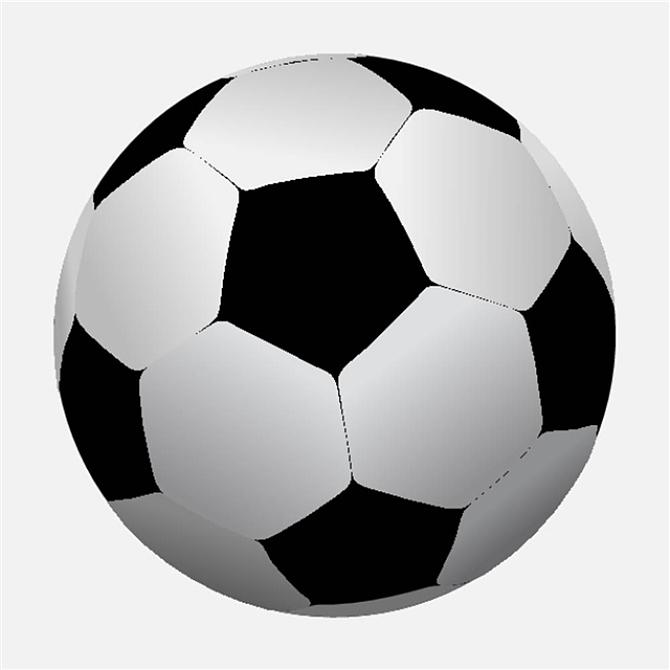football: (58, 50, 617, 624)
